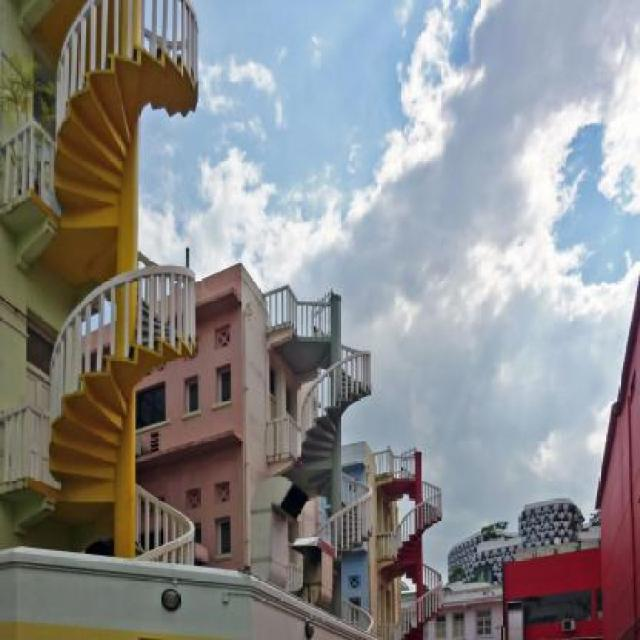stair: (54, 42, 198, 543), (294, 363, 374, 562), (392, 472, 445, 640)
